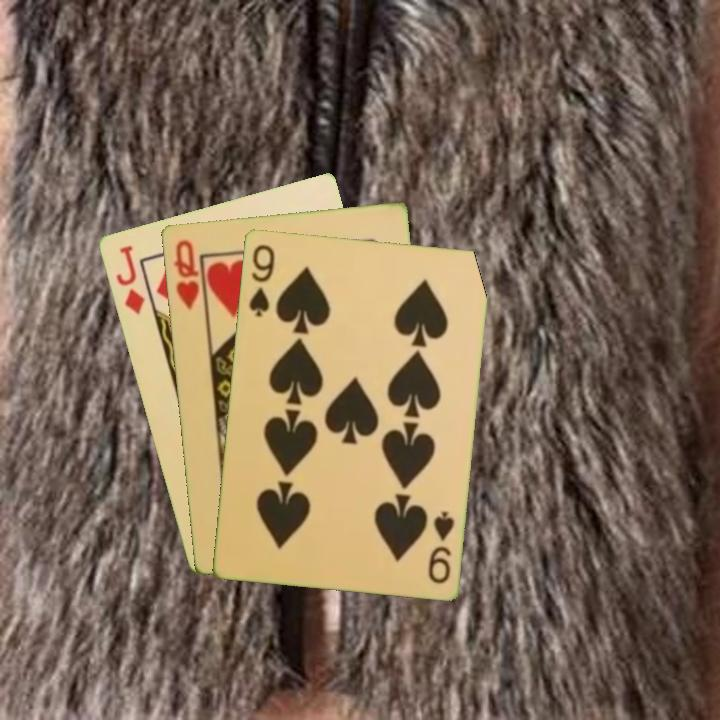9s: (245, 240, 278, 319), (424, 507, 457, 586)
Jd: (112, 241, 147, 317)
Qh: (170, 236, 202, 312)
